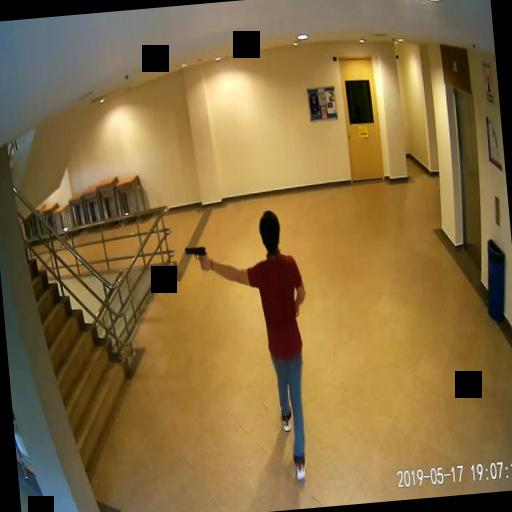Handgun: (182, 242, 208, 274)
